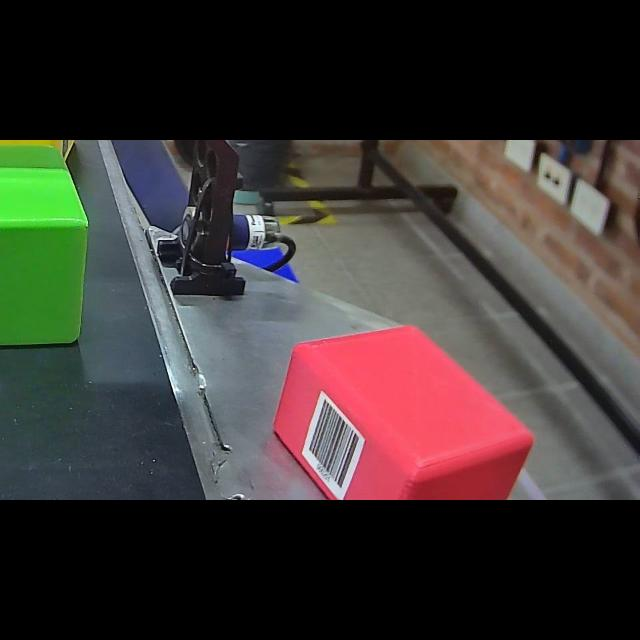greenBox: (0, 142, 94, 358)
redBox: (267, 316, 541, 499)
yellowBox: (0, 140, 80, 178)
